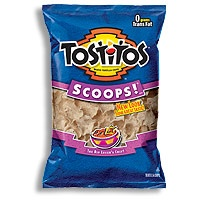grozi_115: (41, 3, 165, 188)
